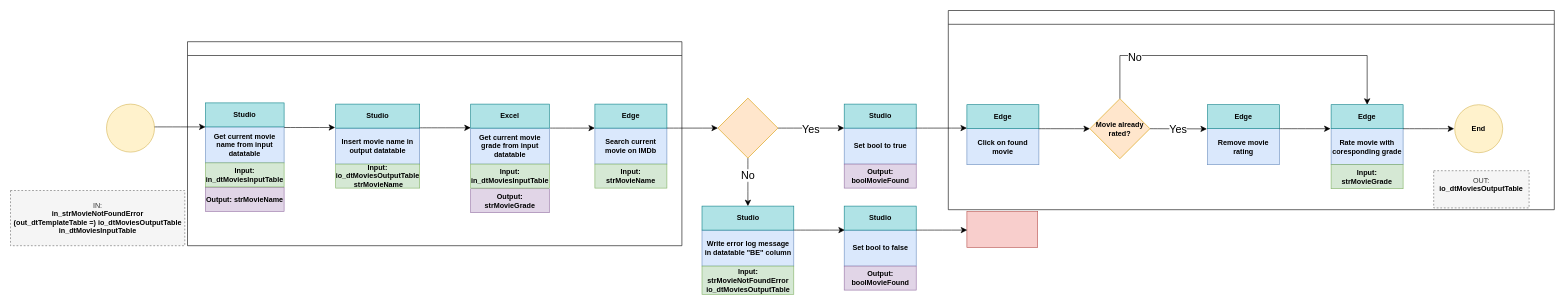
This 1565x305 diagram has some shape labels left out. Each missing label, with the box of its shape:
BE00x: Movie not found: (966, 211, 1038, 248)
Movie found?: (717, 98, 778, 158)
Rate Movie Component: (948, 10, 1554, 210)
Search Movie Component: (187, 41, 682, 246)
Start: (106, 104, 154, 152)
